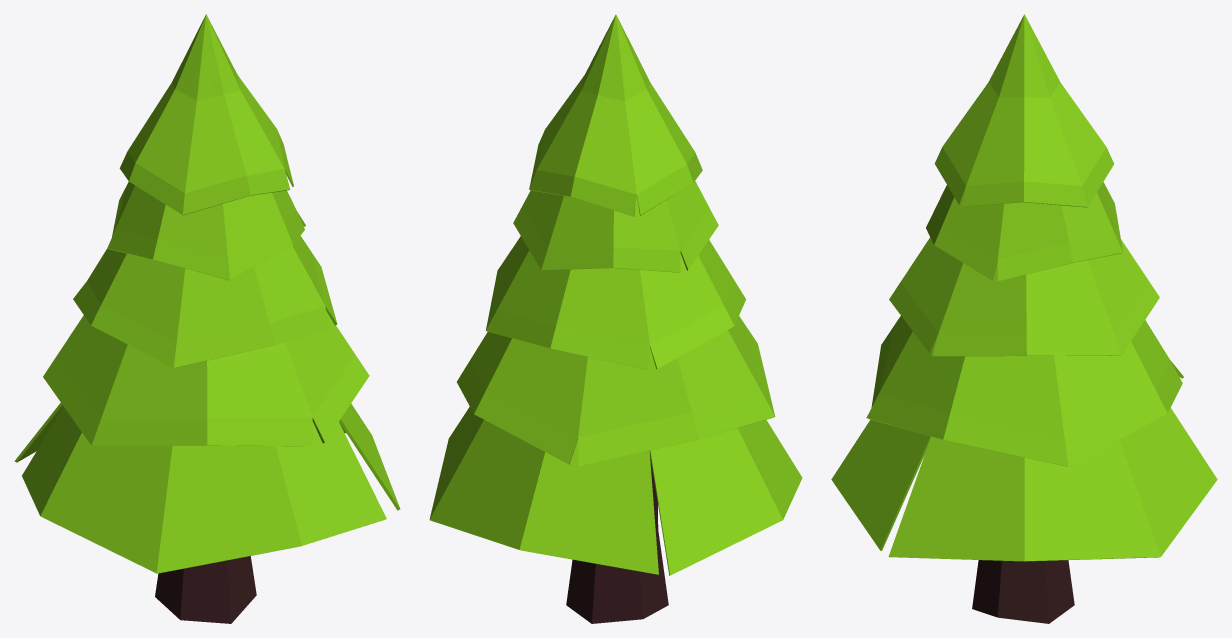
File: Tree_3.fbx
The picture shows the model from 3 angles, left to right: view 1: azimuth 30°, elevation 25°; view 2: azimuth 150°, elevation 25°; view 3: azimuth 270°, elevation 25°; orthographic projection.
Visible parts, largest first — view 1: Cylinder.002; view 2: Cylinder.002; view 3: Cylinder.002.
Boxes of the visible parts, x1,y1,x2,y2 form: Cylinder.002: (14, 14, 400, 623); Cylinder.002: (429, 14, 802, 623); Cylinder.002: (831, 14, 1217, 623).
Bounding box in the file's own units: 101 × 171 × 101.
